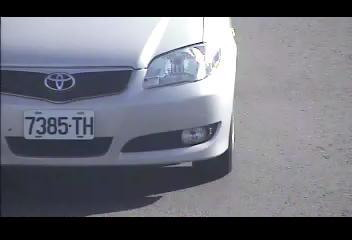plate: (21, 107, 95, 141)
